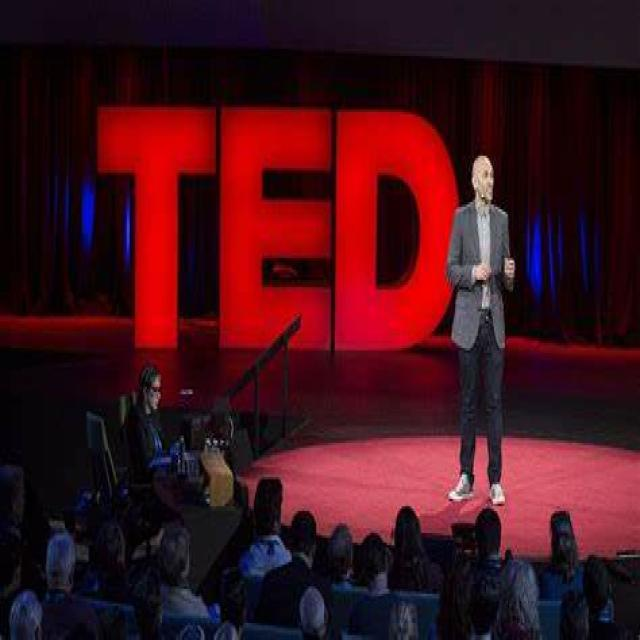stand: (451, 149, 514, 521)
